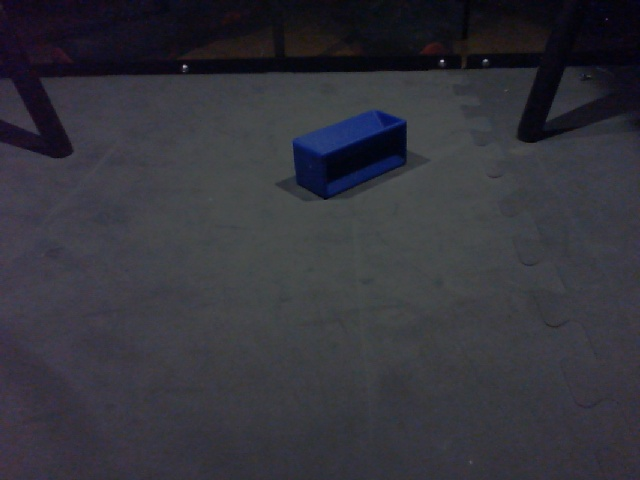BlueSample: (291, 108, 413, 202)
